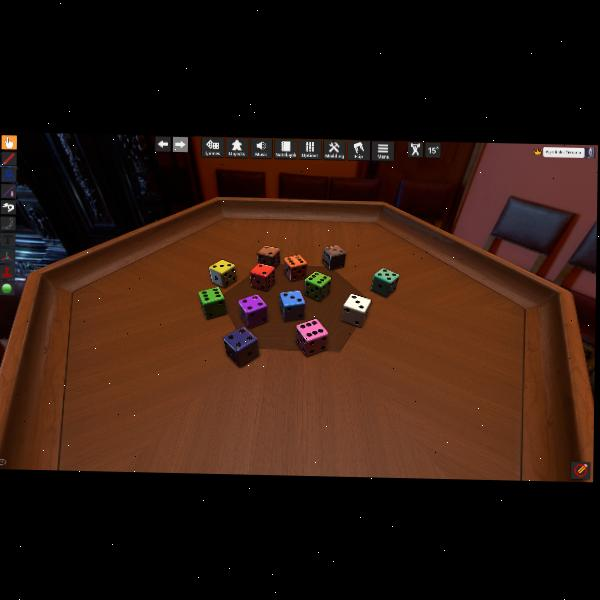d6: (224, 326, 260, 367), (295, 318, 329, 356), (237, 293, 268, 328), (198, 286, 227, 320), (342, 293, 371, 327), (279, 289, 306, 322), (370, 267, 398, 298), (208, 259, 236, 289), (249, 262, 275, 292), (304, 271, 330, 301), (284, 254, 308, 281), (323, 243, 346, 270), (257, 245, 279, 267)
